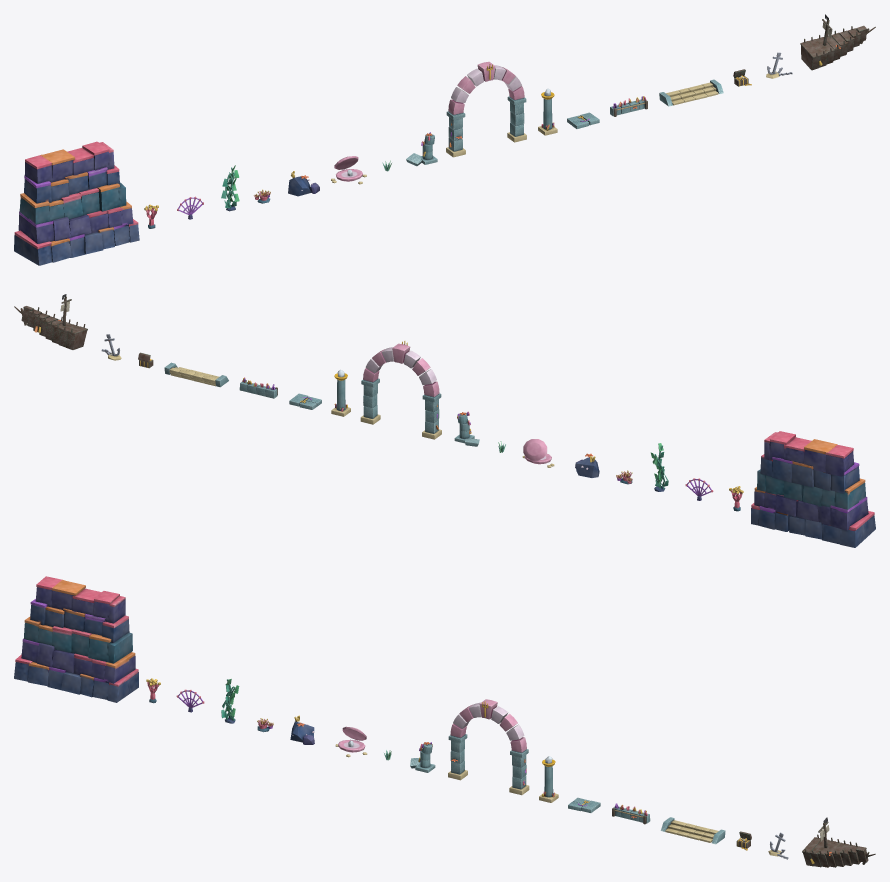
File: Decors_Abysses.fbx
3 views of the same model, one above another, from view 1: azimuth 30°, elevation 25°; view 2: azimuth 150°, elevation 25°; view 3: azimuth 330°, elevation 25° (orthographic).
Parts seen in each view (by area): view 1: Abysses_Recif, Abysses_PorteAtlante, Abysses_Epave, Abysses_Escalier, Abysses_Coquillage, Abysses_ColonneEngloutie, Abysses_PilierPerle, Abysses_Algue, Abysses_Rocher; view 2: Abysses_Recif, Abysses_PorteAtlante, Abysses_Epave, Abysses_Escalier, Abysses_Coquillage, Abysses_PilierPerle; view 3: Abysses_Recif, Abysses_PorteAtlante, Abysses_Epave, Abysses_Escalier.
Boxes of the visible parts, bbox=[...] form: Abysses_Recif: bbox=[14, 141, 139, 265]; Abysses_PorteAtlante: bbox=[446, 61, 526, 157]; Abysses_Epave: bbox=[800, 14, 875, 70]; Abysses_Escalier: bbox=[659, 79, 723, 106]; Abysses_Coquillage: bbox=[331, 156, 366, 184]; Abysses_ColonneEngloutie: bbox=[406, 132, 437, 166]; Abysses_PilierPerle: bbox=[538, 88, 557, 135]; Abysses_Algue: bbox=[221, 165, 239, 211]; Abysses_Rocher: bbox=[288, 171, 319, 196]; Abysses_Recif: bbox=[751, 431, 875, 547]; Abysses_PorteAtlante: bbox=[360, 341, 441, 439]; Abysses_Epave: bbox=[14, 294, 87, 349]; Abysses_Escalier: bbox=[164, 362, 228, 387]; Abysses_Coquillage: bbox=[522, 439, 554, 467]; Abysses_PilierPerle: bbox=[331, 369, 350, 416]; Abysses_Recif: bbox=[14, 576, 138, 702]; Abysses_PorteAtlante: bbox=[448, 699, 529, 795]; Abysses_Epave: bbox=[802, 817, 875, 867]; Abysses_Escalier: bbox=[660, 817, 725, 844].
Size of the model in its own units: 295 by 29.62 by 15.03.
Materials: 17 (17 with a texture image).
